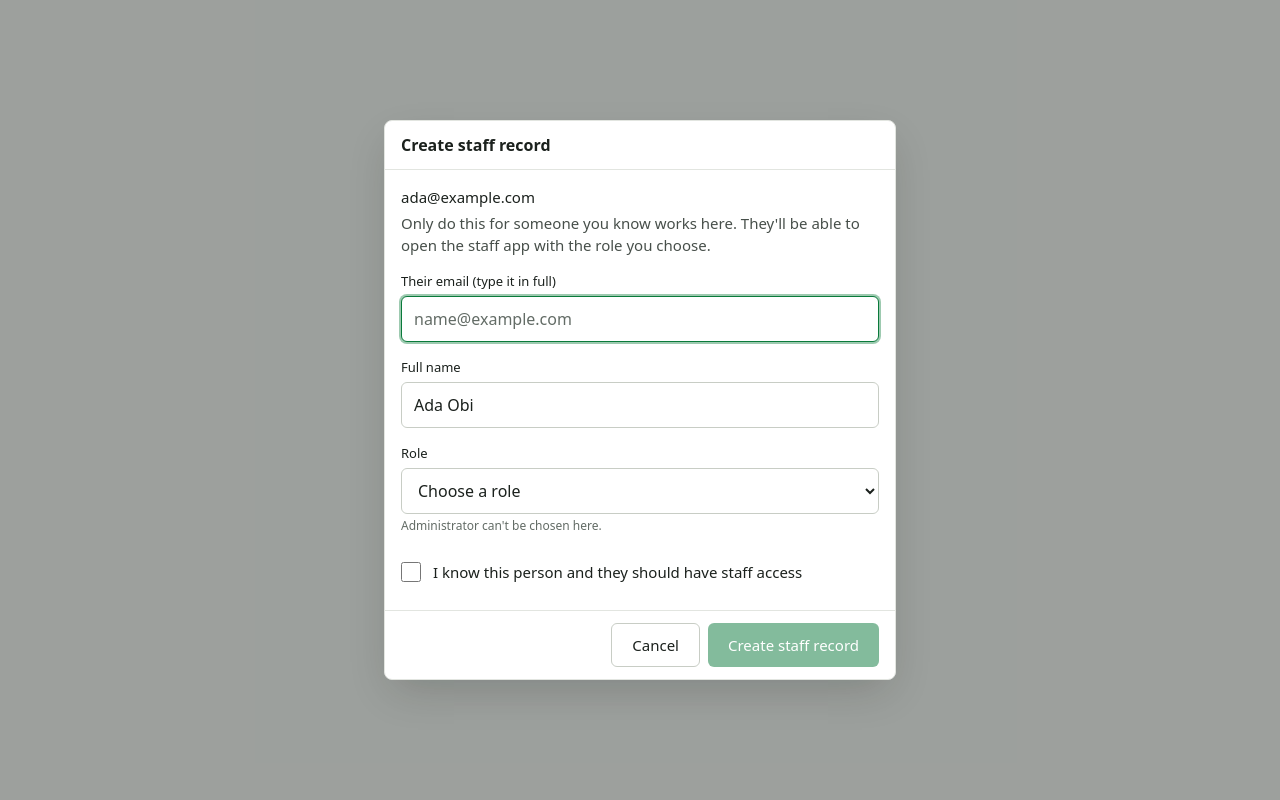
CreateStaffRecordDialog › needs the login's email typed in full
The image size is (1280, 800).
Type "ada@example.co" into the field labelled "Their email (type it in full)". click: (640, 319)
box: x1=401 y1=296 x2=879 y2=342
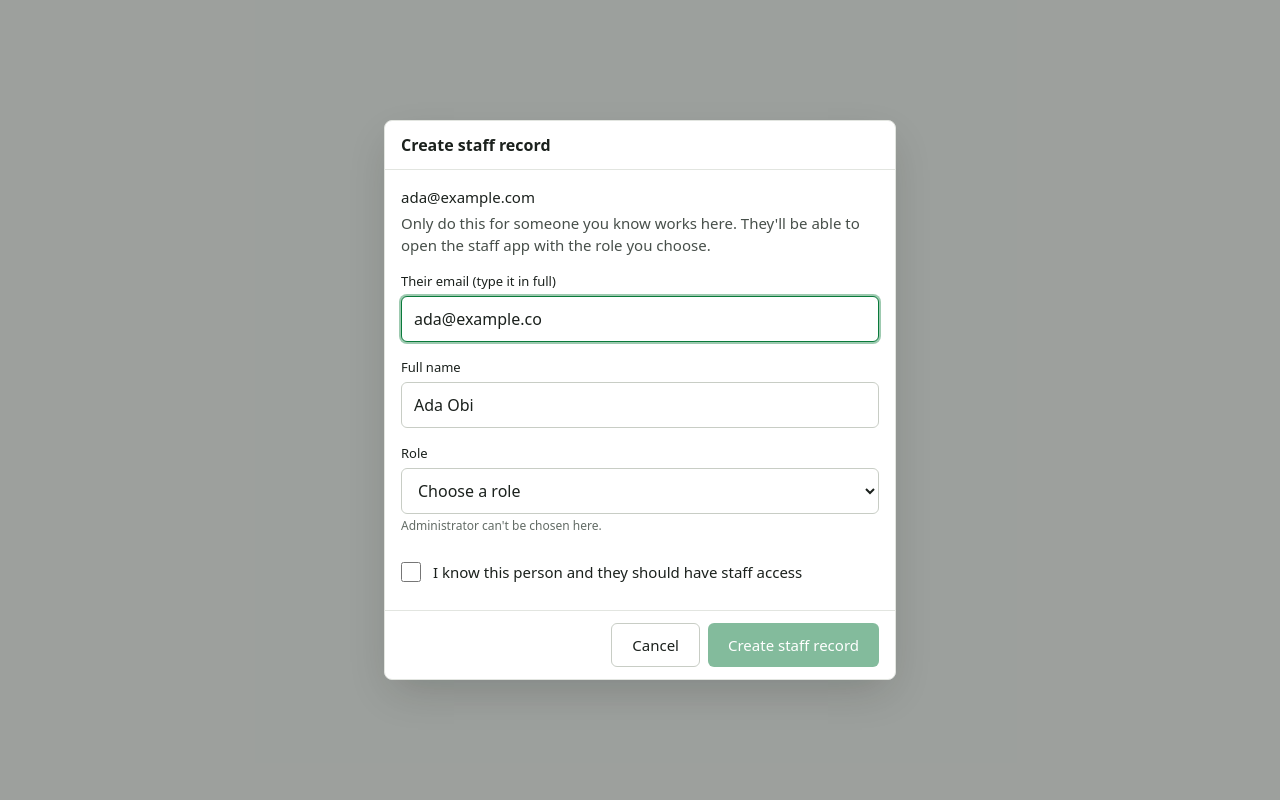
Select "Nurse" in the dropdown labelled "Role". click: (640, 491)
box: x1=401 y1=468 x2=879 y2=514
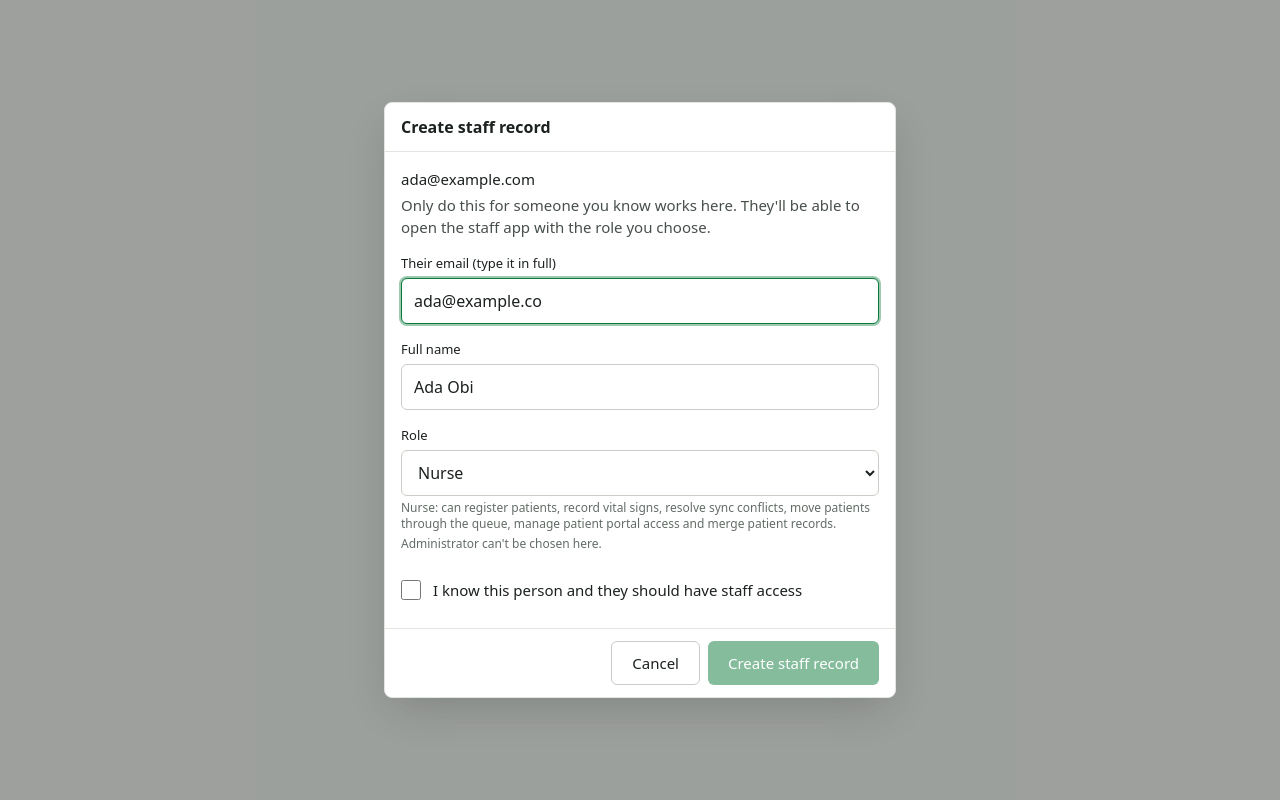
Click the checkbox labelled "I know this person and they should have staff access". click: (411, 590)
box: x1=401 y1=580 x2=421 y2=600
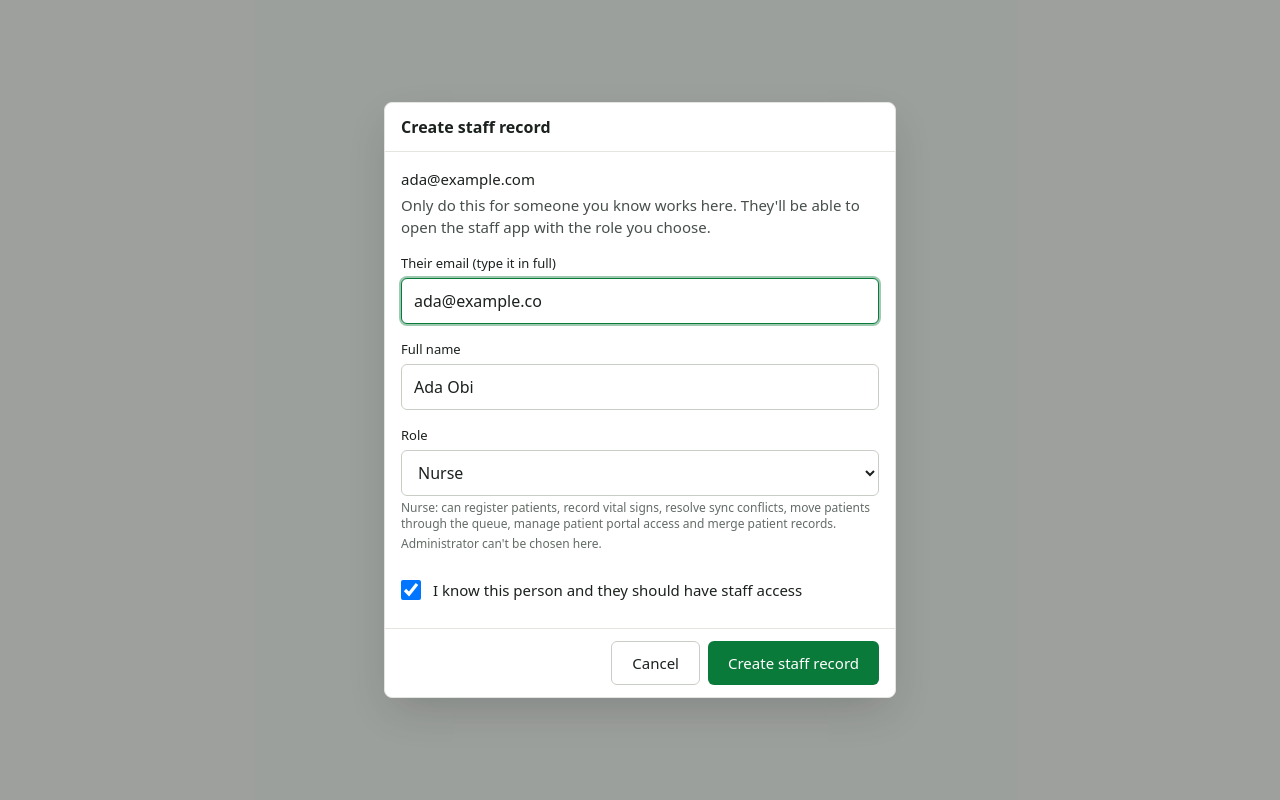
Click the button "Create staff record". click: (794, 663)
box: x1=708 y1=641 x2=879 y2=685
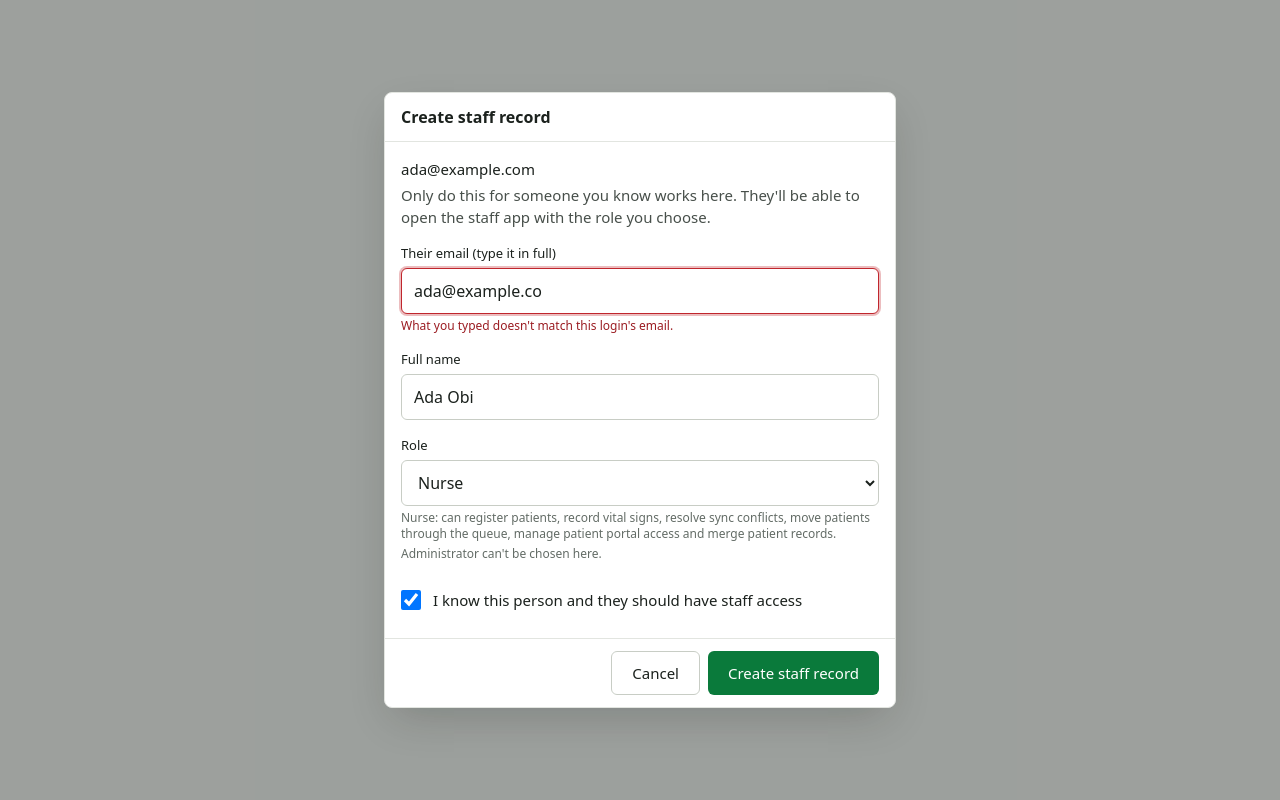
Result: the text "What you typed doesn't match this login's email." is shown at x1=401 y1=317 x2=673 y2=334
